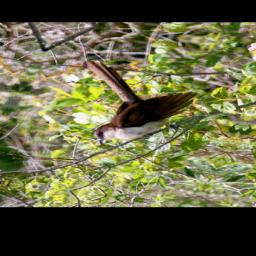Cuckoo: (35, 76, 206, 155)
